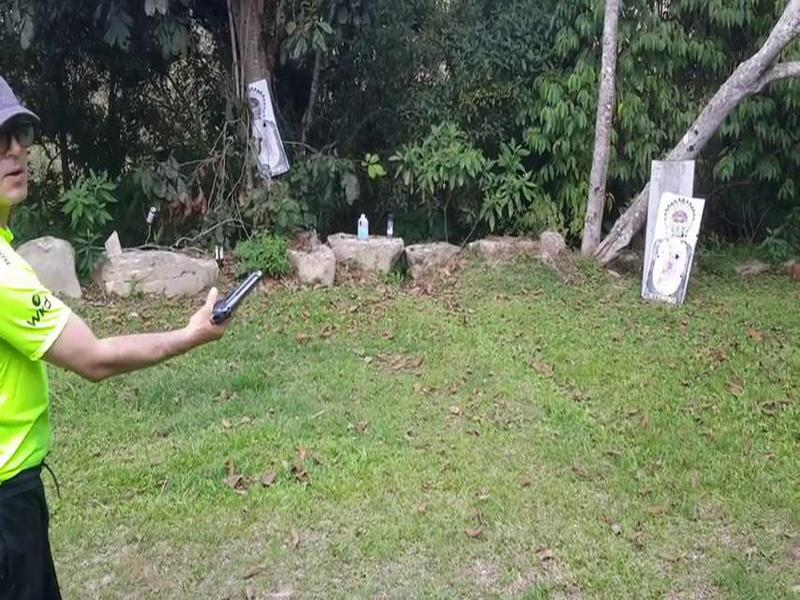Pistola: (204, 264, 268, 335)
